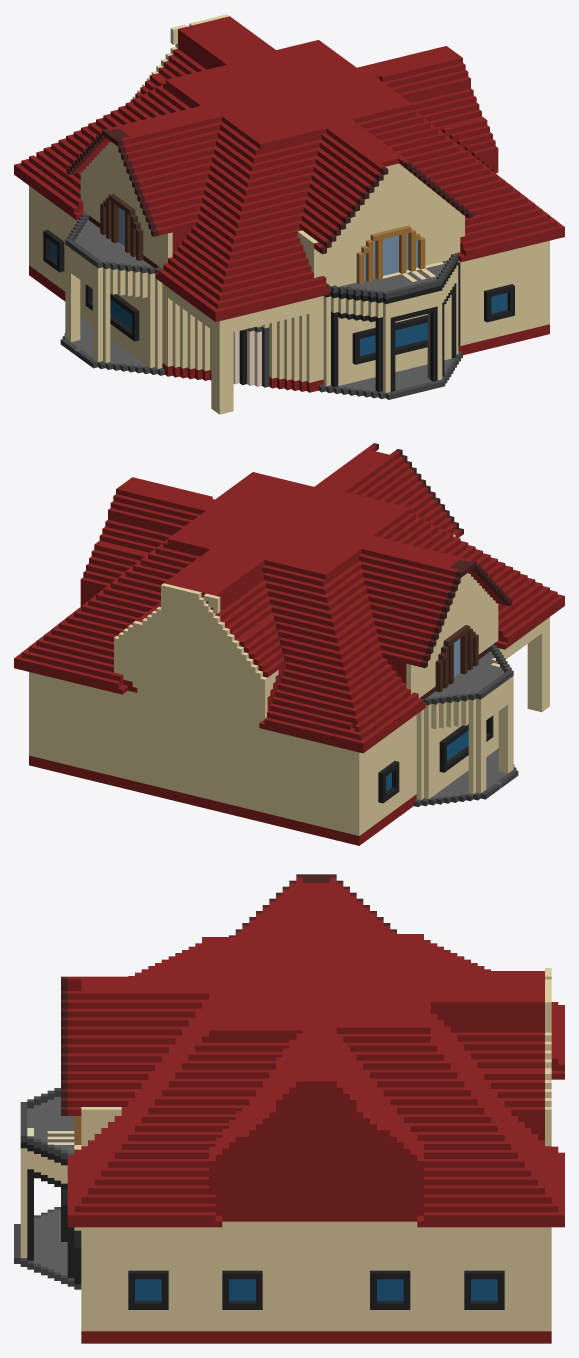
The model's file is map v1.0-24.obj.
3 views of the same model, one above another, from view 1: azimuth 30°, elevation 25°; view 2: azimuth 150°, elevation 25°; view 3: azimuth 270°, elevation 25° (orthographic). The views are drawn at different scales.
Bounding box in the file's own units: 8.2 × 4.3 × 8.2.
Materials: 1 (1 with a texture image).
